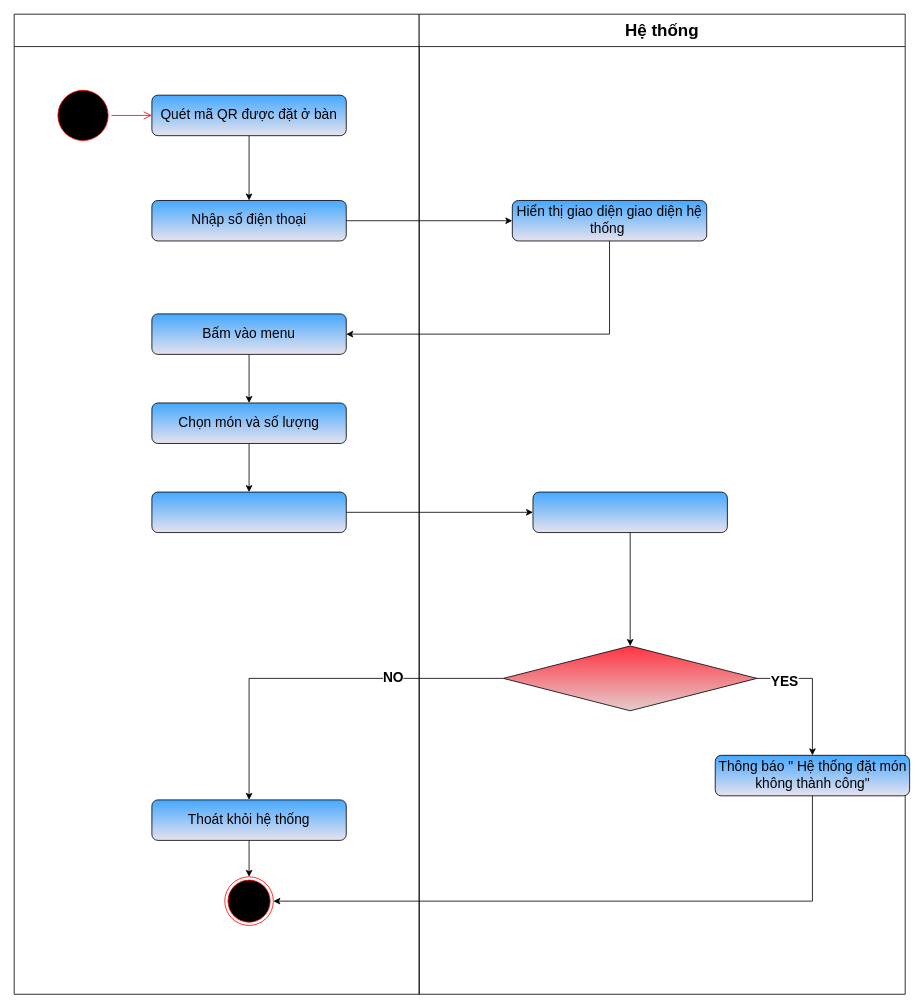
Image size: 924x1008. Some labels were removed from this diagram. The box of each missing label's shape, as (x1, y1, x2, y2) in pixels:
Bấm hoàn thành đơn: (151, 491, 346, 533)
Khách hàng: (13, 13, 419, 994)
Món đã hết hoặc hệ thống gặp lỗi: (503, 645, 757, 711)
Thông báo đơn hàng thành công: (532, 491, 727, 533)
